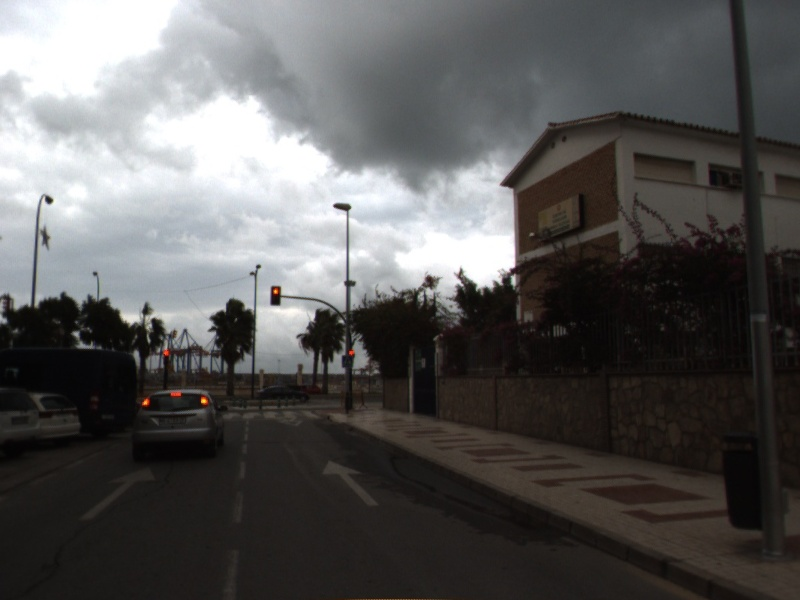STRAIGHT: (75, 464, 159, 523), (320, 458, 381, 508)
